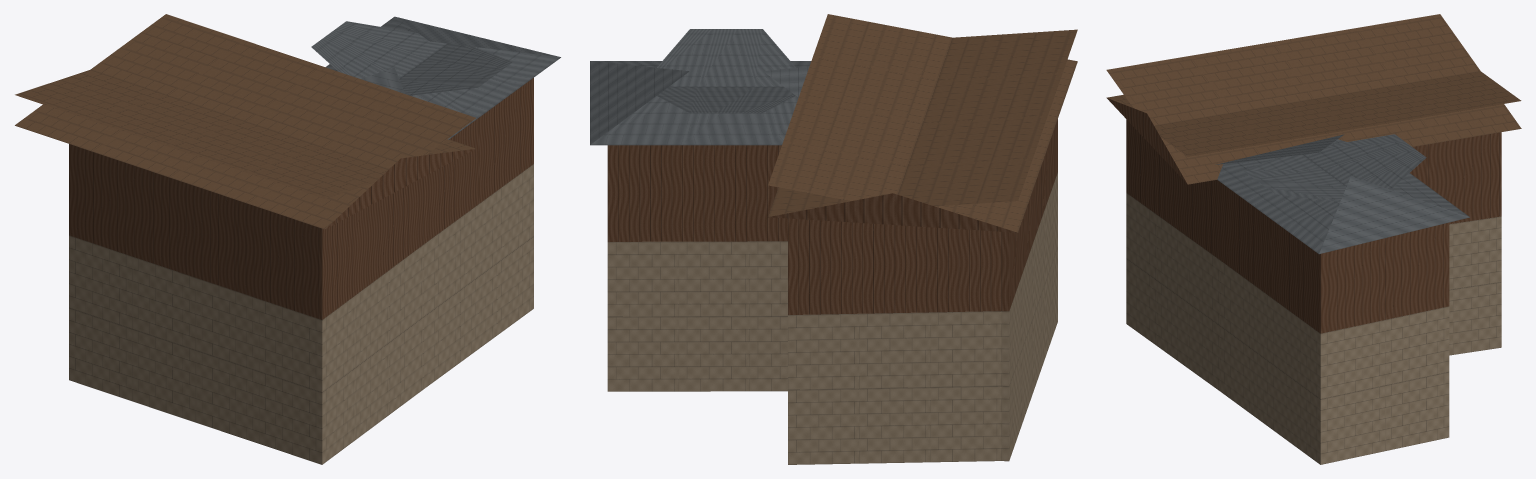
The model's file is bld_c14_15_481.gltf.
The picture shows the model from 3 angles, left to right: view 1: azimuth 30°, elevation 25°; view 2: azimuth 150°, elevation 25°; view 3: azimuth 270°, elevation 25°; orthographic projection. The views are drawn at different scales.
Parts seen in each view (by area): view 1: bld_c14_15_481; view 2: bld_c14_15_481; view 3: bld_c14_15_481.
Boxes of the visible parts, bbox=[...] form: bld_c14_15_481: bbox=[15, 14, 560, 464]; bld_c14_15_481: bbox=[590, 14, 1077, 464]; bld_c14_15_481: bbox=[1106, 14, 1521, 464].
Size of the model in its own units: 16.38 by 9 by 13.54.
5 materials, 5 textured.
